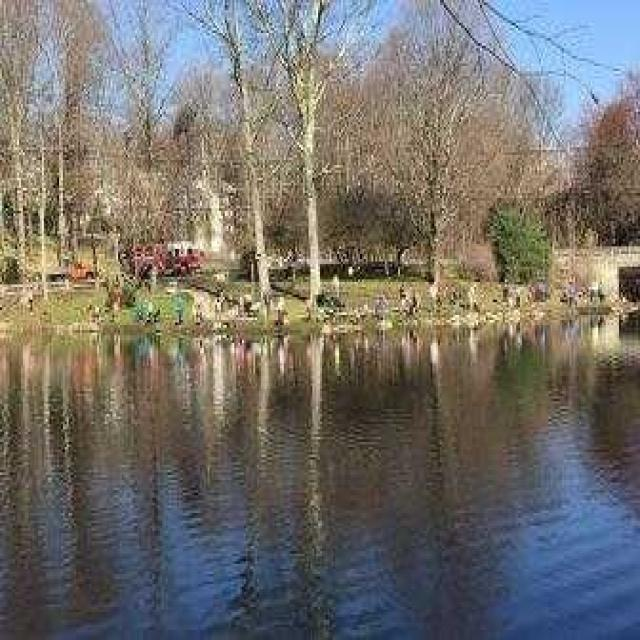Ponds: (5, 305, 640, 635)
